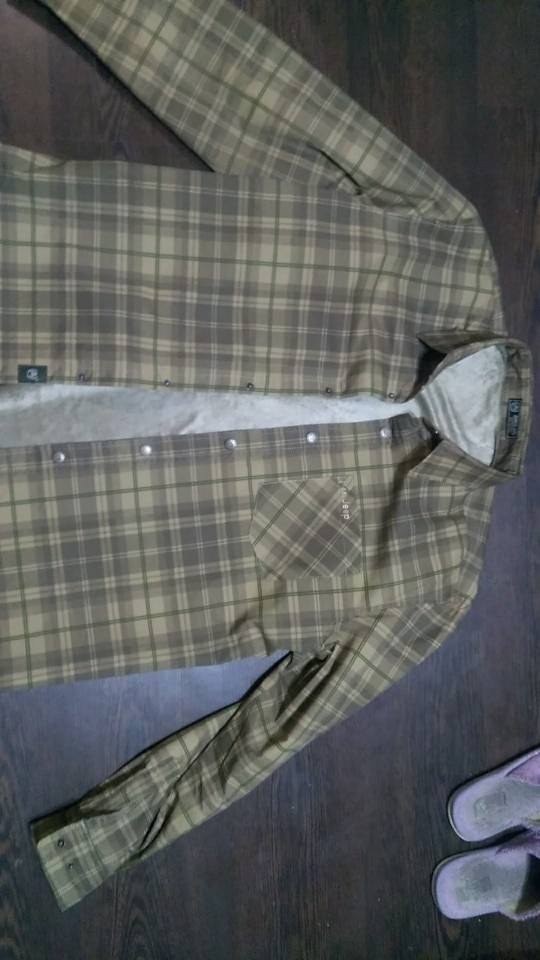shirts: (3, 1, 533, 886)
